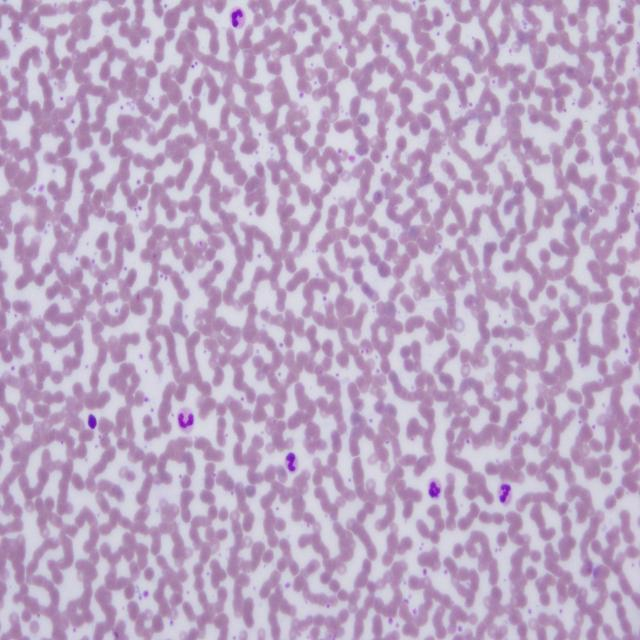cell: (229, 6, 247, 29), (178, 408, 194, 430), (429, 478, 441, 499), (499, 483, 511, 504), (286, 453, 296, 472)
